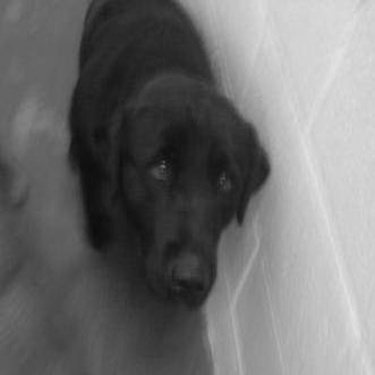dog: (58, 1, 277, 316)
